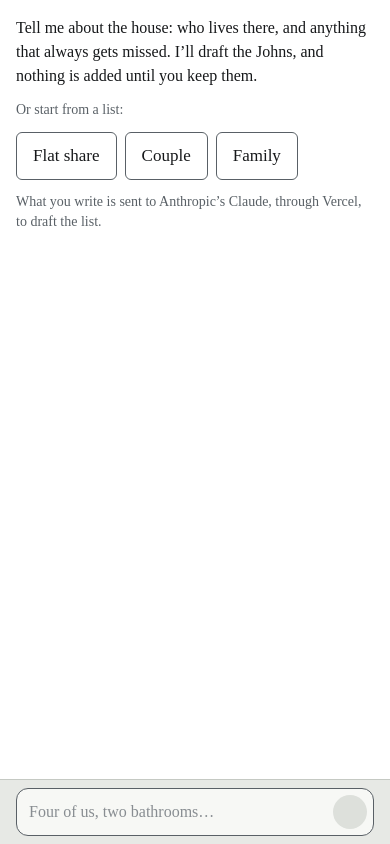
Test: sends the chat so far and the draft with each change, and keeps the draft when Jonz only talks
This screenshot has width=390, height=844.
Step 1. Type "Three of us, two bathrooms" into the text box with test id "chat-input" → (175, 812), box [17, 789, 333, 835]
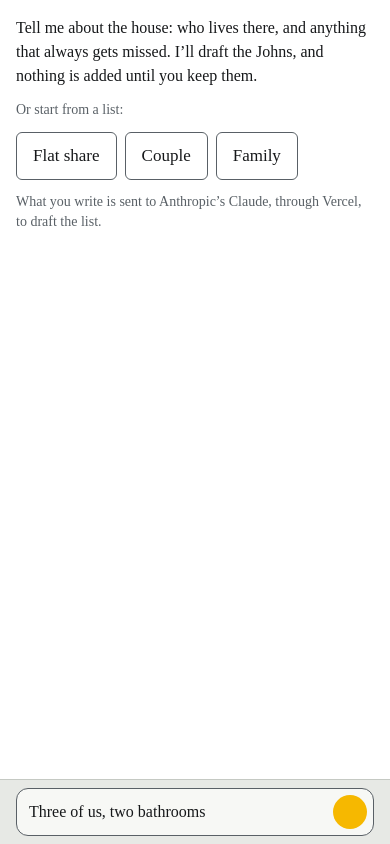
Step 2. Click the button named "Send" → (350, 812), box [333, 789, 367, 835]
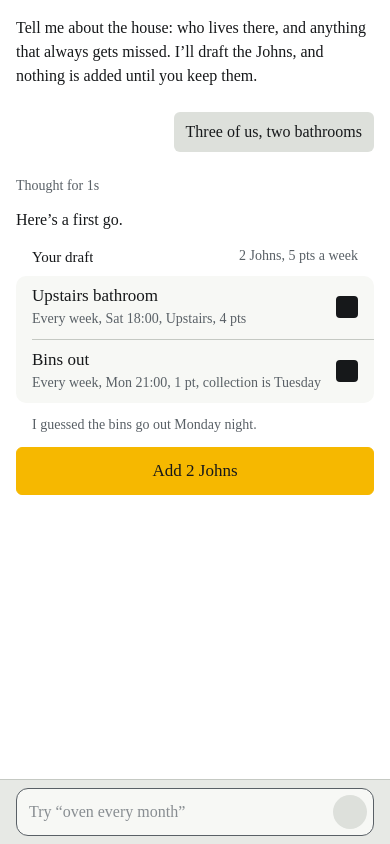
Result: the text "Here’s a first go." is shown at [16, 211, 123, 228]
Step 3. Type "Is that all?" into the text box with test id "chat-input" → (175, 812), box [17, 789, 333, 835]
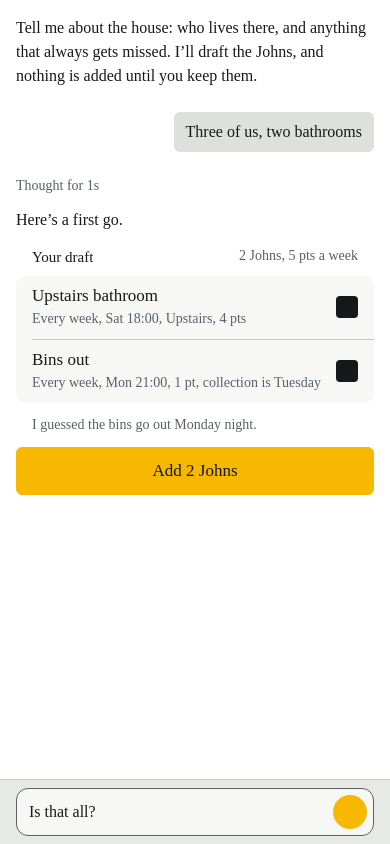
Step 4. Click the button named "Send" → (350, 812), box [333, 789, 367, 835]
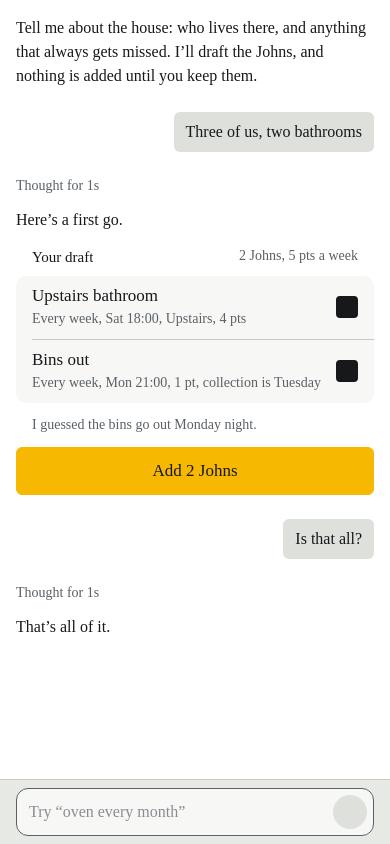
Result: the number of elements with test id "draft-card" is 1 at [16, 244, 374, 495]
Result: the text "That’s all of it." is shown at [16, 618, 110, 635]
